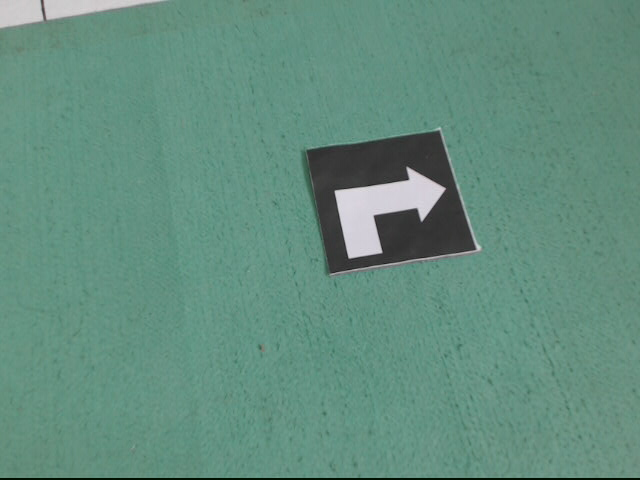right: (304, 131, 484, 275)
